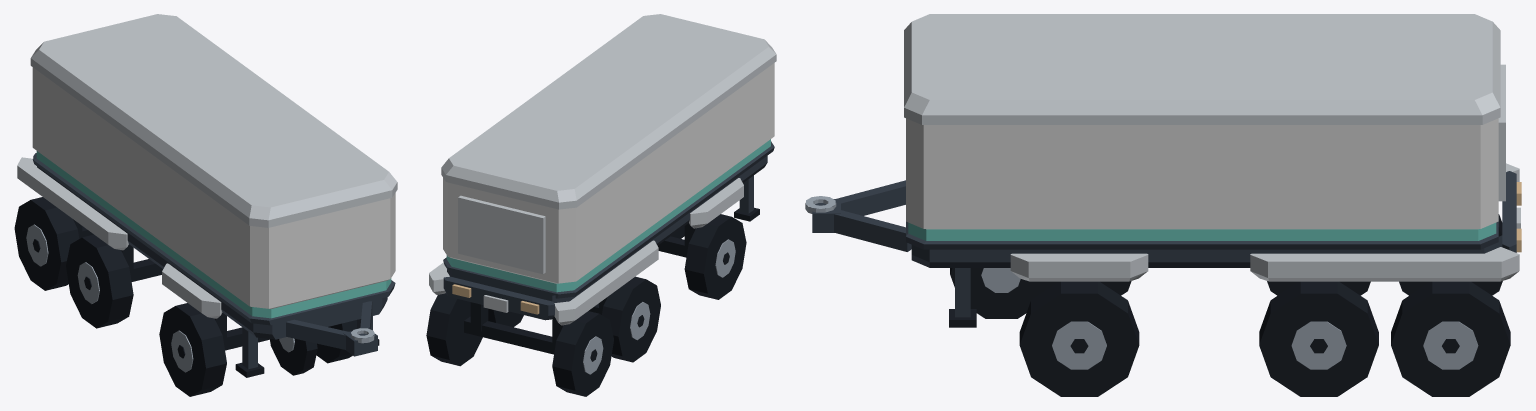
The model's file is hauler-cargo-trailer-3a0262.glb.
3 views of the same model, side by side, from view 1: azimuth 30°, elevation 25°; view 2: azimuth 150°, elevation 25°; view 3: azimuth 270°, elevation 25° (orthographic). The views are drawn at different scales.
Visible parts, largest first — view 1: hauler-cargo-trailer, wheel-1r, wheel-2r, wheel-3r, spare, wheel-1l; view 2: hauler-cargo-trailer, wheel-3r, wheel-1r, wheel-2r, wheel-3l, wheel-2l; view 3: hauler-cargo-trailer, wheel-1l, wheel-2l, wheel-3l, spare, wheel-3r.
Boxes of the visible parts, x1,y1,x2,y2 form: hauler-cargo-trailer: (17,14,397,377); wheel-1r: (159,303,226,396); wheel-2r: (66,234,133,328); wheel-3r: (14,197,79,290); spare: (269,337,317,375); wheel-1l: (316,320,356,363); hauler-cargo-trailer: (429,14,776,354); wheel-3r: (552,311,613,396); wheel-1r: (684,214,746,299); wheel-2r: (602,276,660,362); wheel-3l: (426,293,482,366); wheel-2l: (488,308,523,327); hauler-cargo-trailer: (805,14,1521,327); wheel-1l: (1019,281,1139,396); wheel-2l: (1259,281,1378,396); wheel-3l: (1391,281,1510,396); spare: (950,268,1050,318); wheel-3r: (1399,214,1502,295).
Bounding box in the file's own units: 4 × 5.35 × 11.97.
